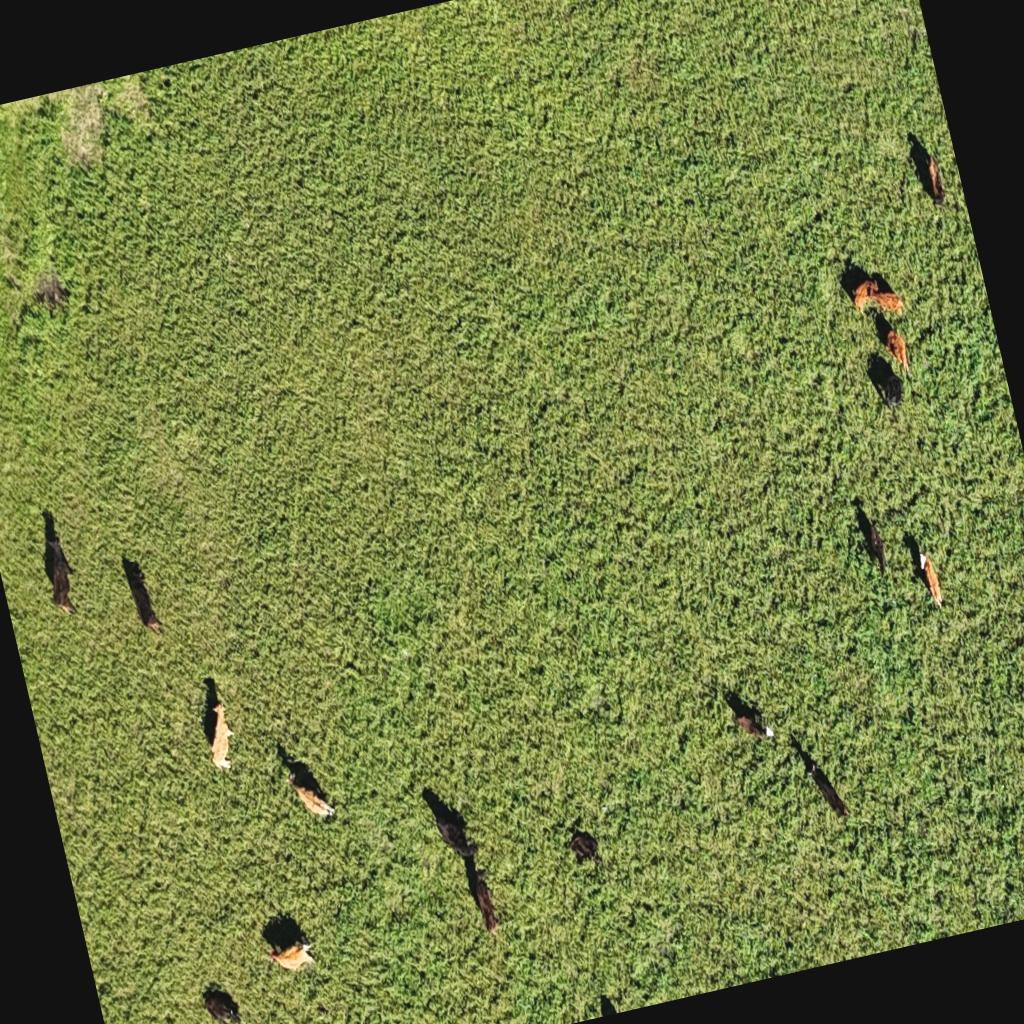cow: (786, 722, 852, 829), (274, 735, 340, 833), (250, 898, 318, 984), (30, 506, 80, 620), (190, 673, 240, 780), (422, 778, 479, 868), (118, 545, 166, 643), (722, 679, 775, 749), (904, 127, 948, 211), (902, 526, 946, 609), (461, 851, 502, 936), (851, 496, 891, 580), (872, 307, 914, 386), (558, 816, 606, 882), (864, 348, 908, 414), (834, 260, 882, 318), (862, 263, 908, 322), (197, 979, 244, 1024)
